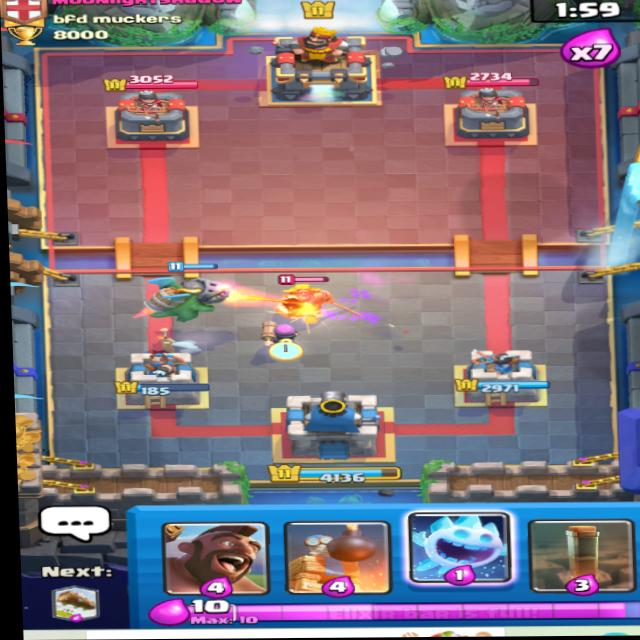golden-knight: (246, 268, 351, 328)
